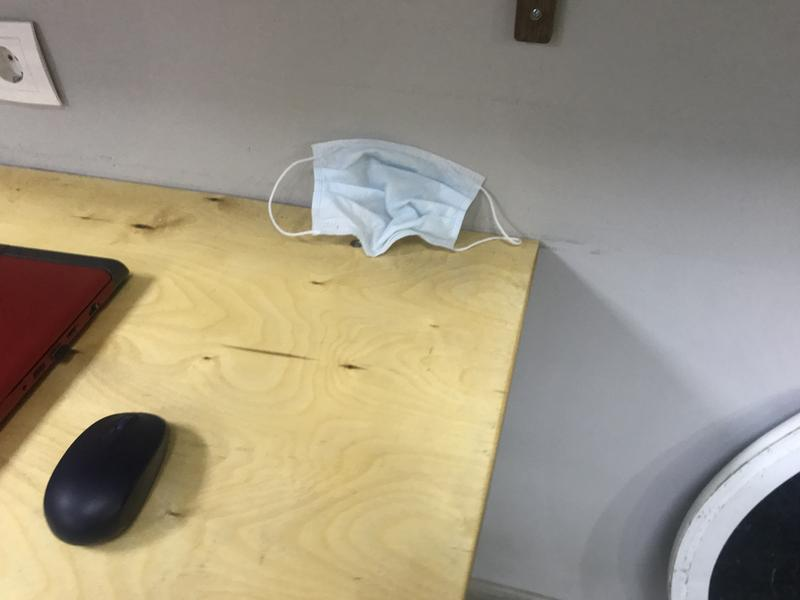medical_mask: (269, 139, 524, 256)
